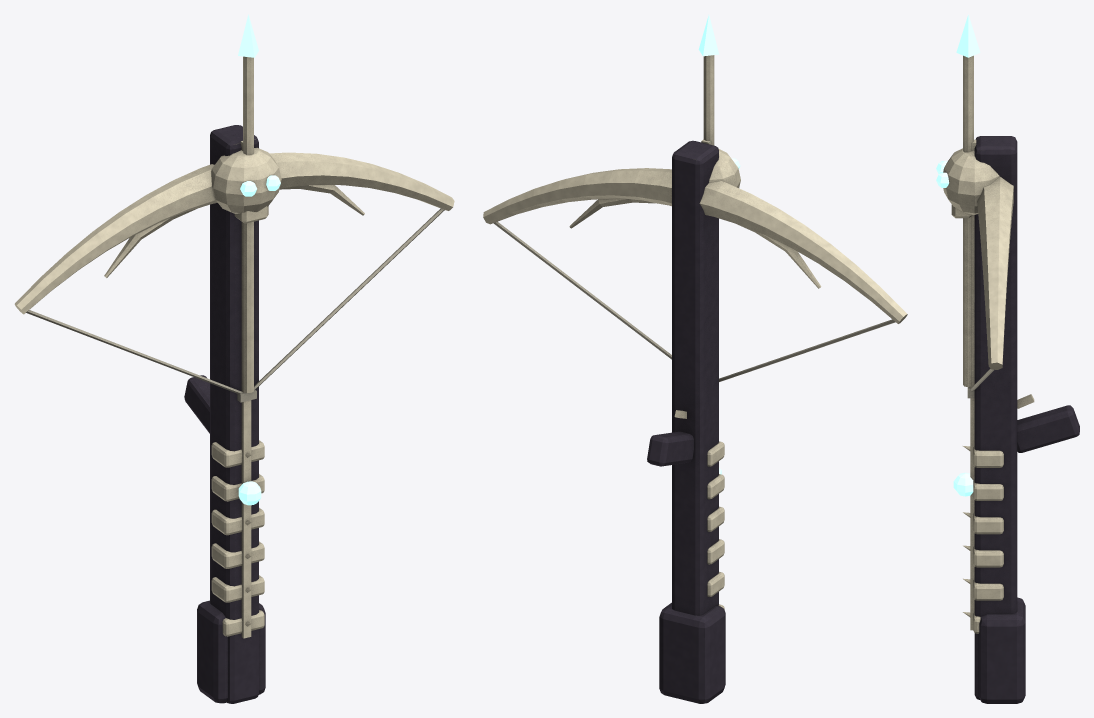
Rendered from 09_dead_ranged.fbx.
The picture shows the model from 3 angles, left to right: view 1: azimuth 30°, elevation 25°; view 2: azimuth 150°, elevation 25°; view 3: azimuth 270°, elevation 25°; orthographic projection. The views are drawn at different scales.
Visible parts, largest first — view 1: Weapon; view 2: Weapon; view 3: Weapon.
Part boxes in pixels (box(x1,y1,x2,y2)): Weapon: box(14, 14, 454, 703); Weapon: box(483, 15, 907, 703); Weapon: box(936, 14, 1079, 703).
Bounding box in the file's own units: 92.52 × 140 × 26.81.
Materials: 2 (1 with a texture image).
